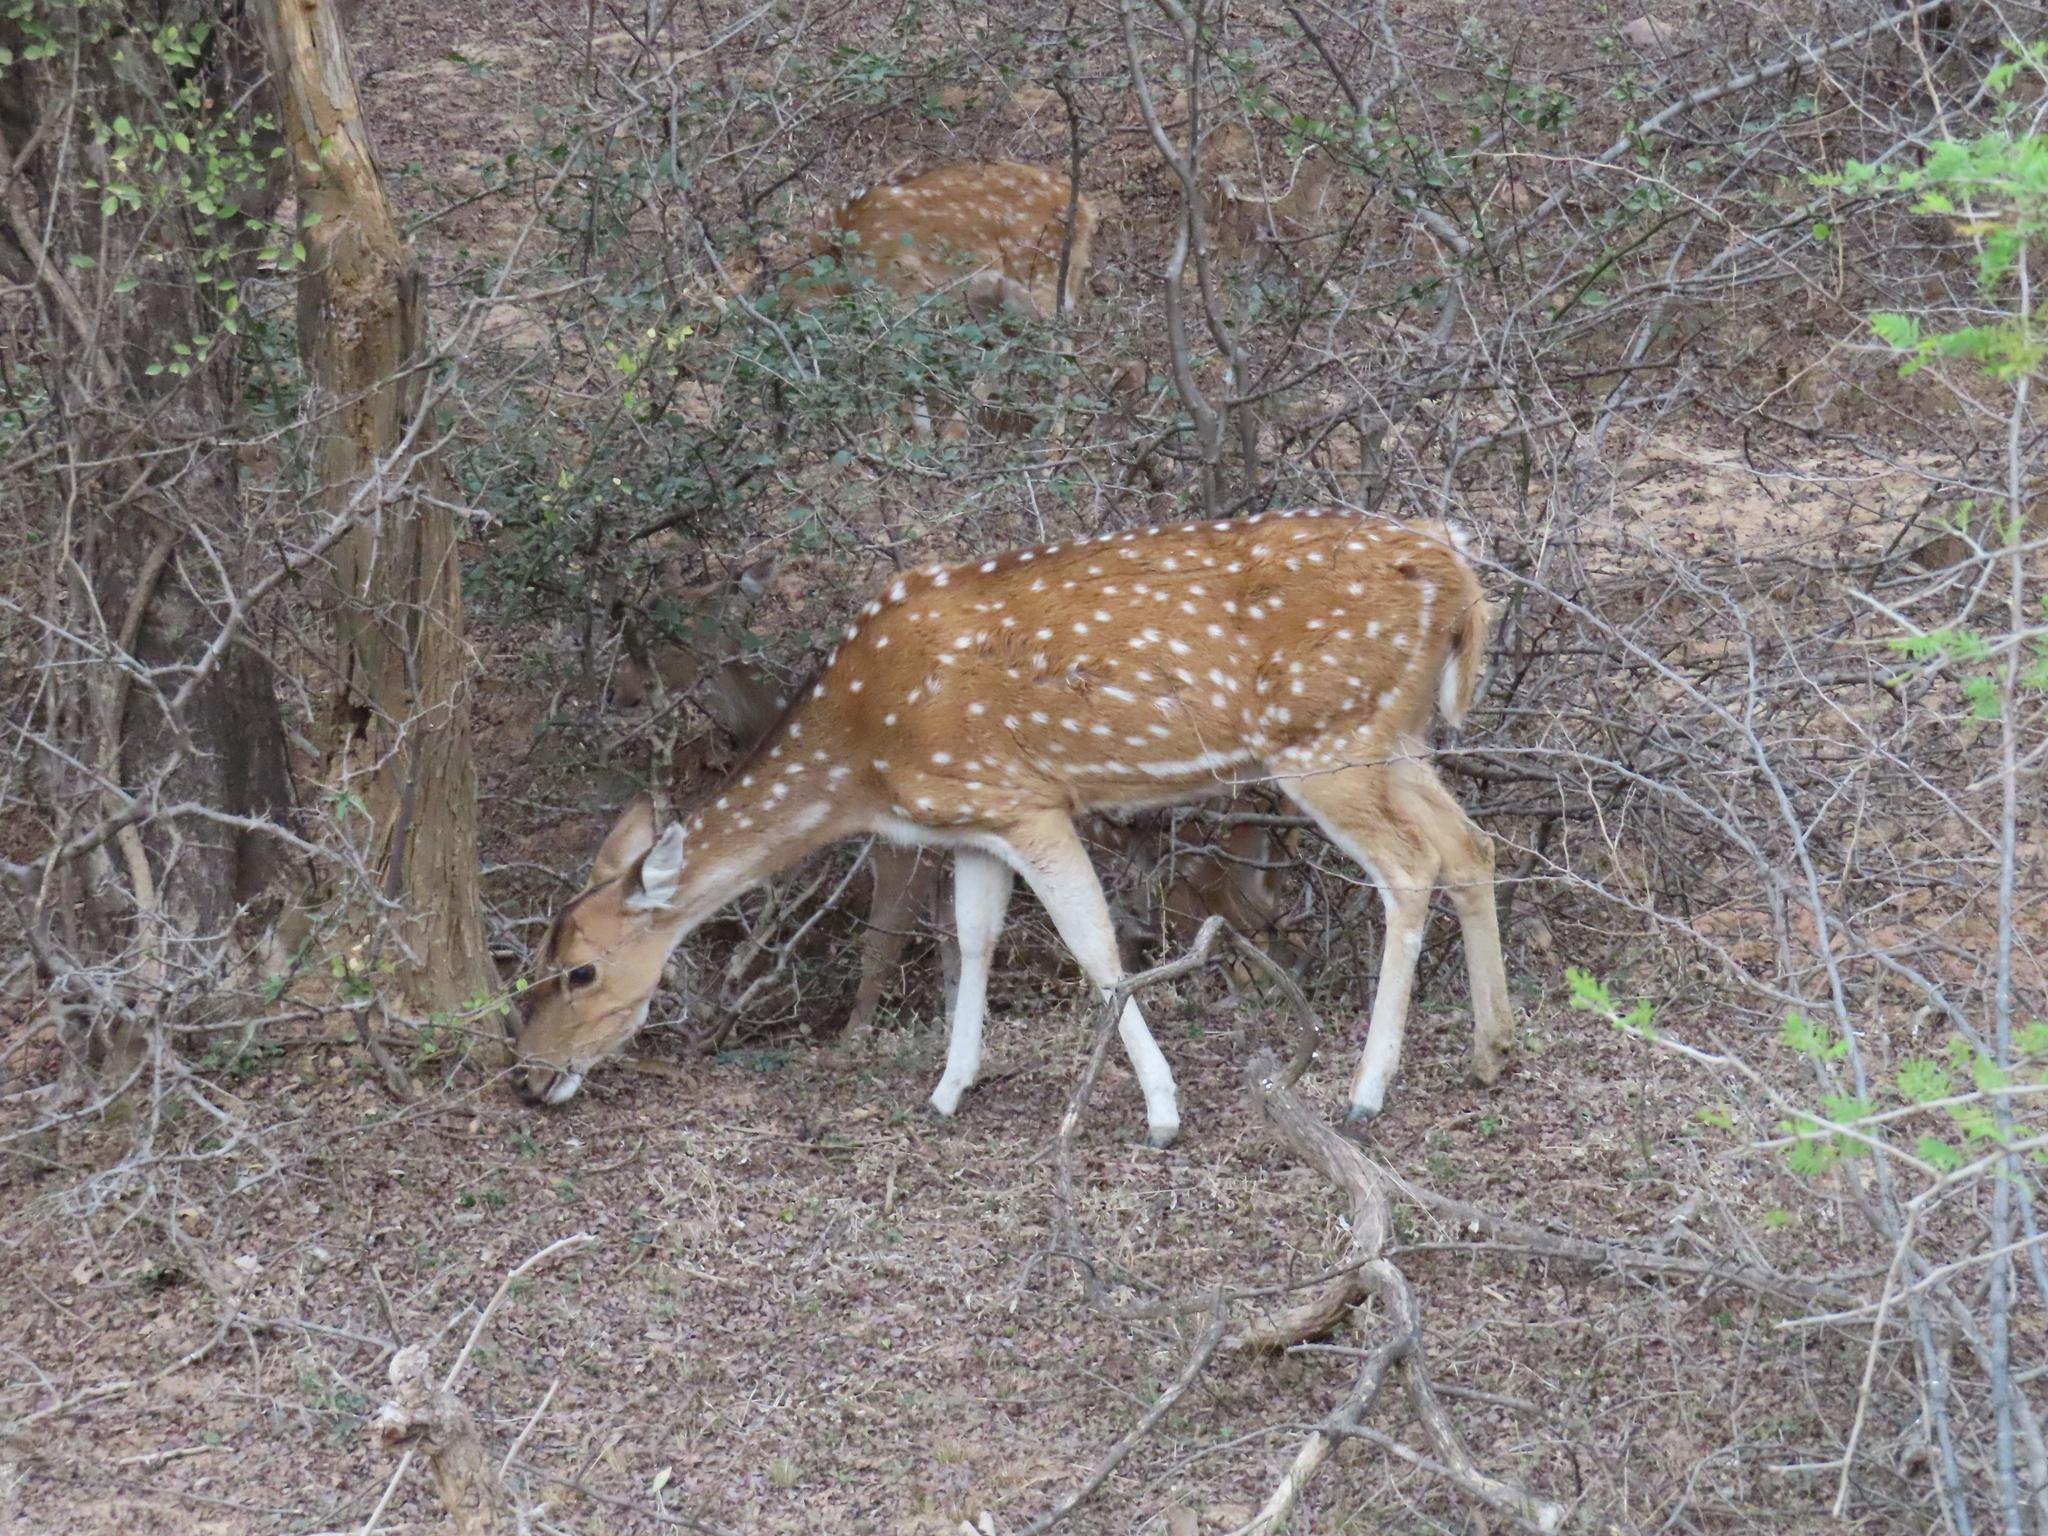Deer: (514, 510, 1511, 1113)
